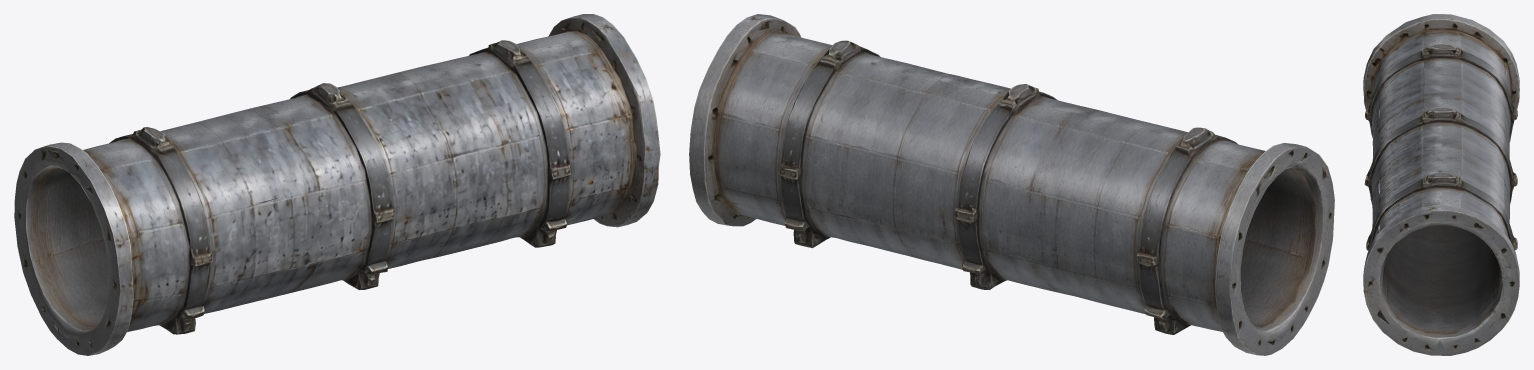
Rendered from ENV-PIPEKIT-STRAIGHT-lod0.glb.
3 renders of one model, left to right at view 1: azimuth 30°, elevation 25°; view 2: azimuth 150°, elevation 25°; view 3: azimuth 270°, elevation 25°, orthographic. The views are drawn at different scales.
Parts seen in each view (by area): view 1: Mesh; view 2: Mesh; view 3: Mesh.
Boxes of the visible parts, left/top/right/bottom form: Mesh: left=14, top=14, right=660, bottom=355; Mesh: left=689, top=14, right=1334, bottom=355; Mesh: left=1363, top=14, right=1519, bottom=355.
Bounding box in the file's own units: 1.88 × 0.6521 × 0.6318.
Materials: 1 (1 with a texture image).
